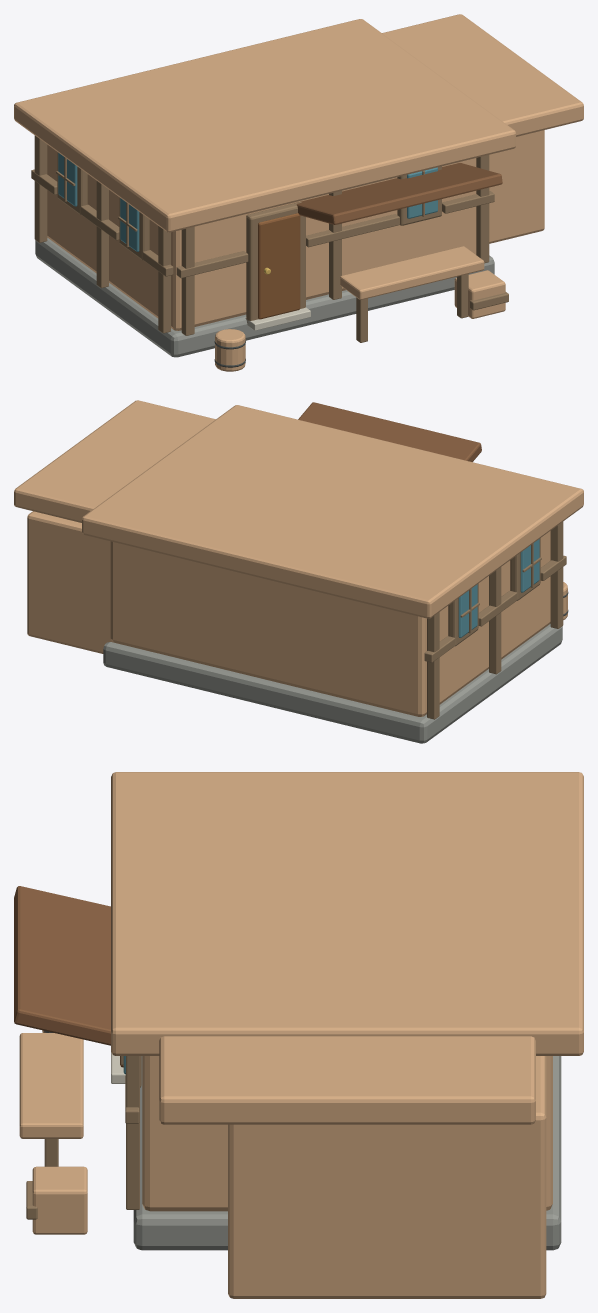
Rendered from arid-artisan-1.glb.
3 renders of one model, top to bottom at view 1: azimuth 30°, elevation 25°; view 2: azimuth 150°, elevation 25°; view 3: azimuth 270°, elevation 25°, orthographic. The views are drawn at different scales.
Visible parts, largest first — view 1: Adobe cream, Adobe fieldstone, Palm beams, Adobe wood, Foundation stone, Wood shingles, Door oak, Blue glass, Cut limestone; view 2: Adobe cream, Adobe fieldstone, Foundation stone, Adobe wood, Palm beams, Wood shingles, Blue glass; view 3: Adobe cream, Adobe wood, Wood shingles, Adobe fieldstone, Foundation stone, Palm beams.
Part boxes in pixels (bbox=[...]): Adobe cream: bbox=[14, 14, 583, 232]; Adobe fieldstone: bbox=[47, 145, 476, 330]; Palm beams: bbox=[31, 135, 508, 342]; Adobe wood: bbox=[215, 130, 544, 371]; Foundation stone: bbox=[35, 238, 494, 357]; Wood shingles: bbox=[294, 163, 502, 224]; Door oak: bbox=[258, 213, 300, 319]; Blue glass: bbox=[58, 153, 437, 251]; Cut limestone: bbox=[245, 307, 310, 330]; Adobe cream: bbox=[14, 400, 583, 618]; Adobe fieldstone: bbox=[110, 531, 550, 716]; Foundation stone: bbox=[103, 624, 562, 743]; Adobe wood: bbox=[27, 511, 567, 653]; Palm beams: bbox=[424, 521, 566, 719]; Wood shingles: bbox=[298, 402, 481, 461]; Blue glass: bbox=[458, 539, 539, 637]; Adobe cream: bbox=[111, 772, 583, 1124]; Adobe wood: bbox=[19, 1030, 546, 1298]; Wood shingles: bbox=[14, 886, 110, 1045]; Adobe fieldstone: bbox=[142, 1056, 552, 1211]; Foundation stone: bbox=[133, 1056, 561, 1250]; Palm beams: bbox=[26, 1056, 141, 1219].
Size of the model in its own units: 5.38 by 1.82 by 4.03.
